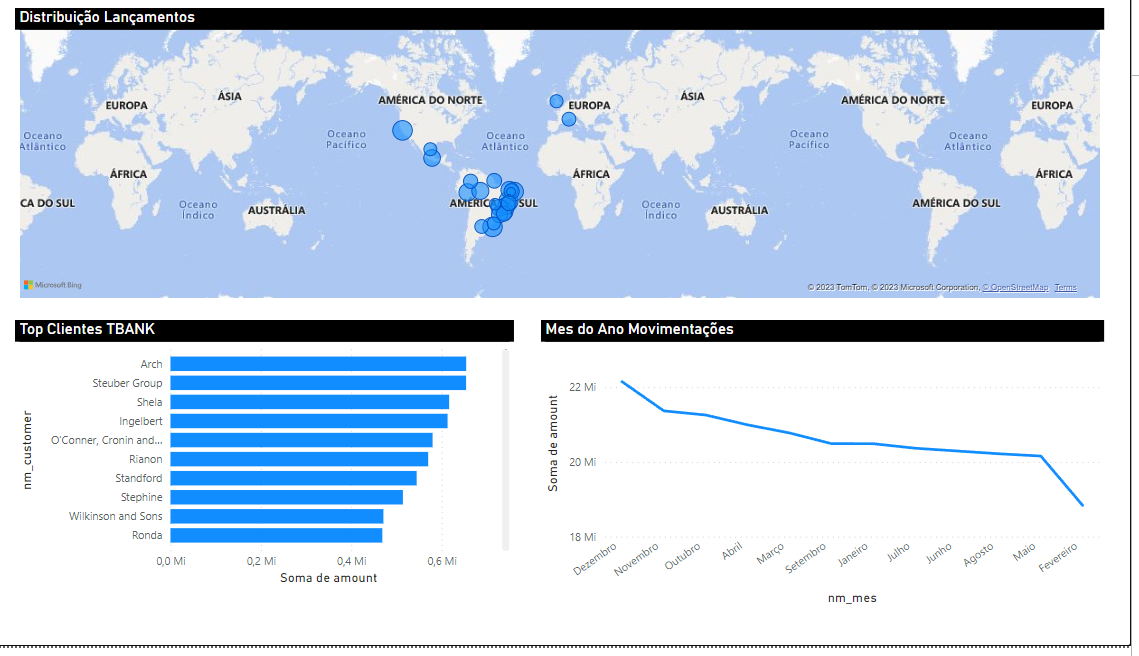

Layout of this report page (visuals, bound fields, positions):
{"tool":"powerbi","page":{"name":"Visão 01","canvas":[1280,720],"ordinal":0},"visuals":[{"type":"barChart","title":"Top Clientes TBANK","fields":{"Category":["public dim_customer.nm_customer"],"Y":["public ft_transfers.amount"]},"box":[45.4,359.6,552,297.6],"z":0},{"type":"lineChart","title":"Mes do Ano Movimentações","fields":{"Category":["public dim_data.nm_mes"],"Y":["public ft_transfers.amount"]},"box":[627.3,359.6,622.9,319.7],"z":1000},{"type":"map","title":"Distribuição Lançamentos","fields":{"Category":["public dim_customer.nm_state"],"Size":["public ft_transfers.amount"]},"box":[45.4,14.4,1204.8,326.4],"z":1001}]}

Visuals, with their boxes in screenshot pixels (x1, y1, x2, y2), scaled from the page's 1280x720 canvas onto the 1139x656 screenshot:
"Top Clientes TBANK" barChart: (40, 328, 532, 599)
"Mes do Ano Movimentações" lineChart: (558, 328, 1112, 619)
"Distribuição Lançamentos" map: (40, 13, 1112, 311)
